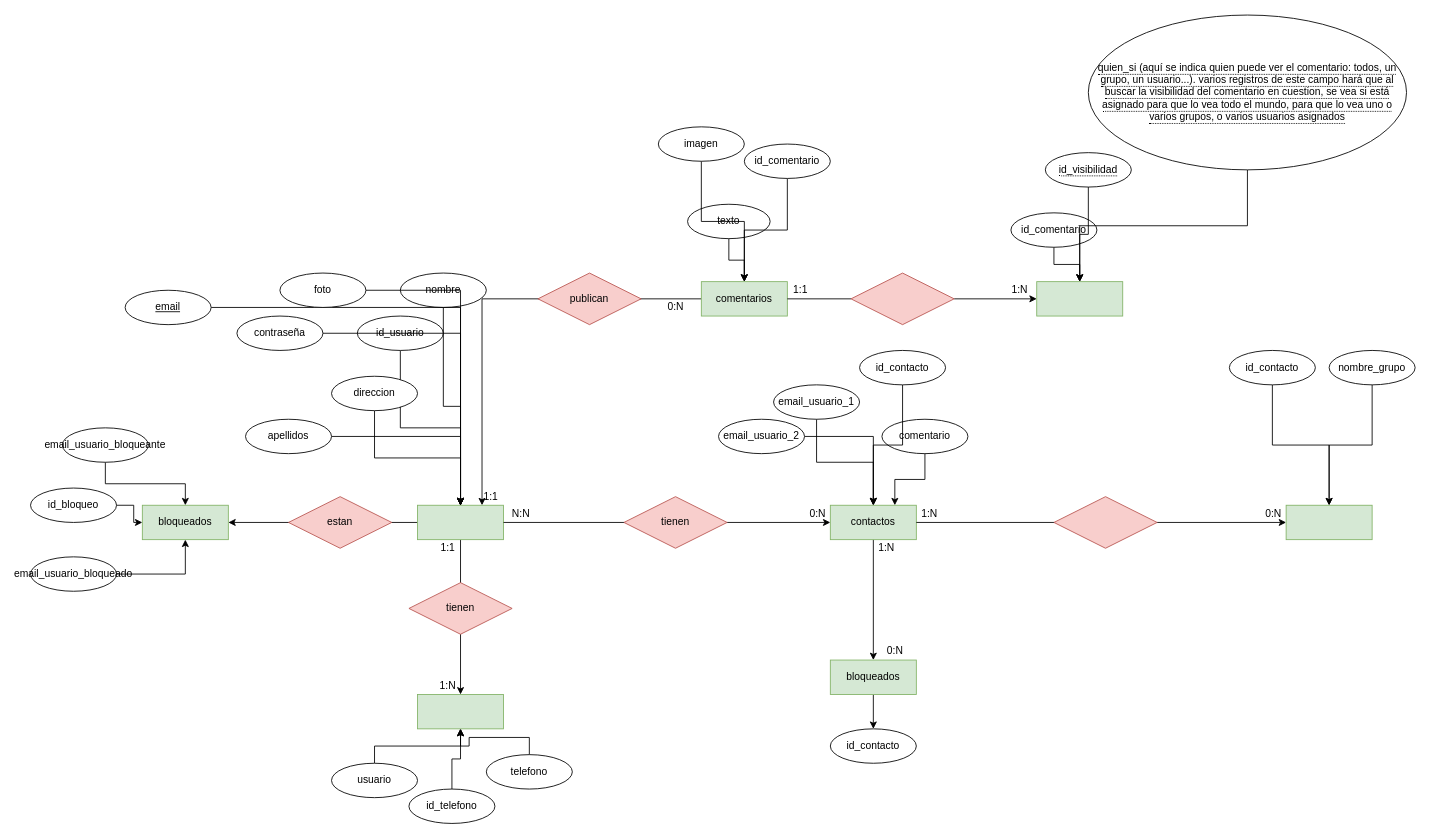
Image size: 1430x839. Some labels were removed from this diagram. Here are the shapes that lost their labels. From the top down, the box of each, then its label:
(850, 272, 954, 325): tiene
(1036, 281, 1123, 316): visibilidad
(417, 504, 504, 540): usuarios
(1053, 496, 1157, 548): están
(1285, 504, 1372, 540): grupos
(417, 694, 504, 729): telefonos
